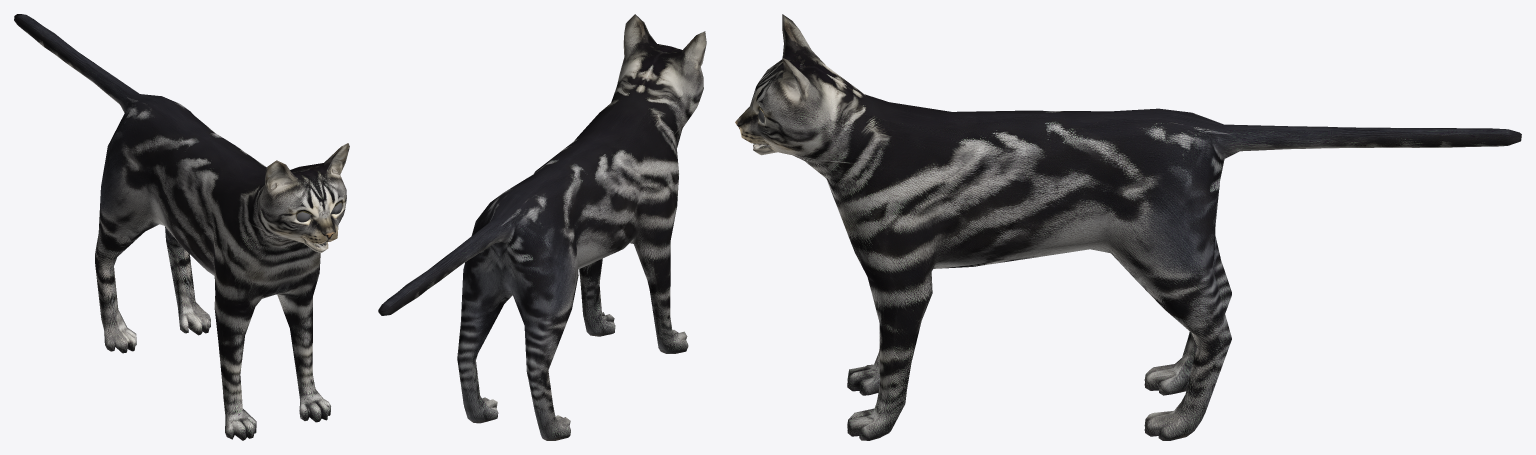
The picture shows the model from 3 angles, left to right: view 1: azimuth 30°, elevation 25°; view 2: azimuth 150°, elevation 25°; view 3: azimuth 270°, elevation 25°; orthographic projection. The views are drawn at different scales.
Visible parts, largest first — view 1: Mesh_0; view 2: Mesh_0; view 3: Mesh_0.
Boxes of the visible parts, box(x1,y1,x2,y2) form: Mesh_0: box(14, 14, 349, 440); Mesh_0: box(378, 14, 706, 440); Mesh_0: box(735, 14, 1521, 440).
Bounding box in the file's own units: 39.05 × 105 × 200.
1 material, 1 textured.
